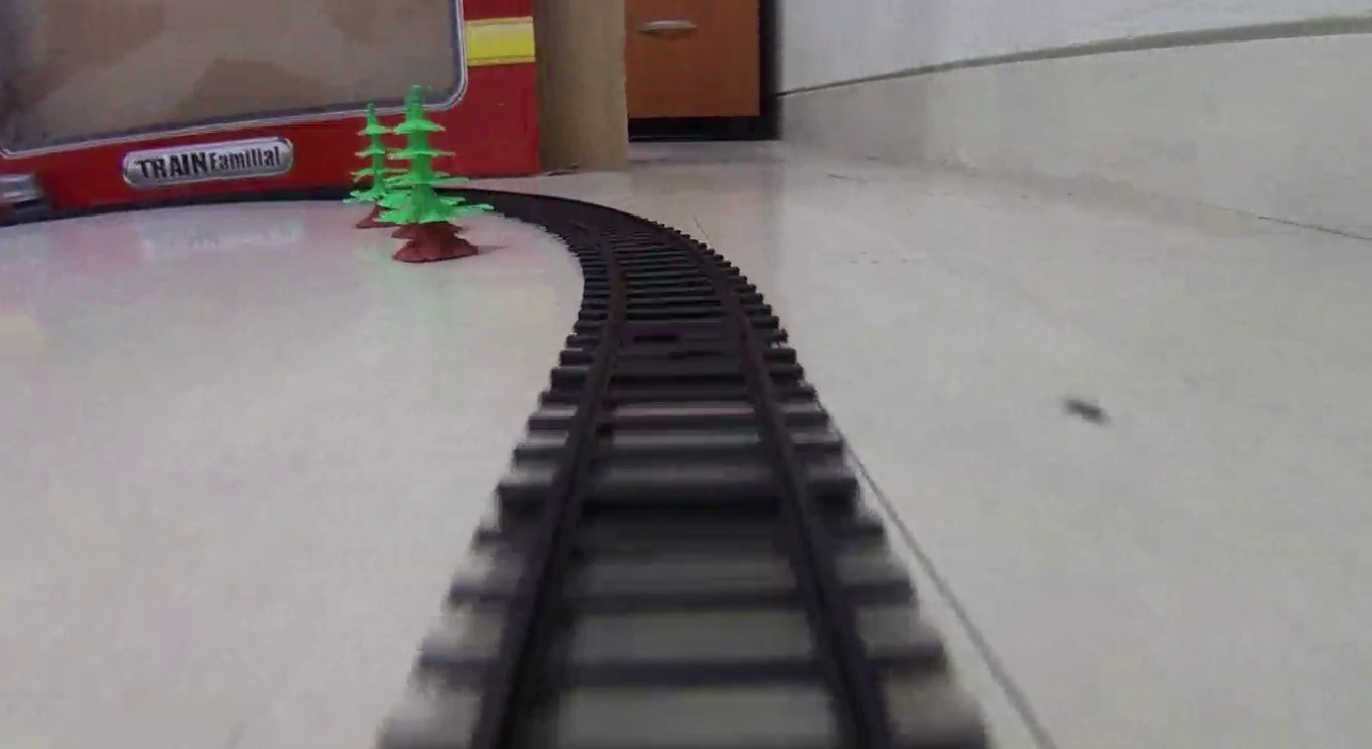tree: (390, 86, 479, 261), (350, 106, 397, 225)
